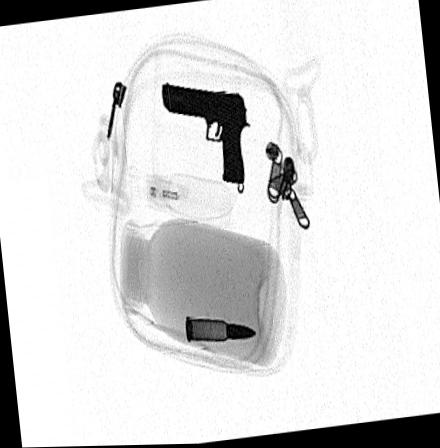Bullet: (184, 317, 257, 341)
Gun: (161, 83, 246, 185)
